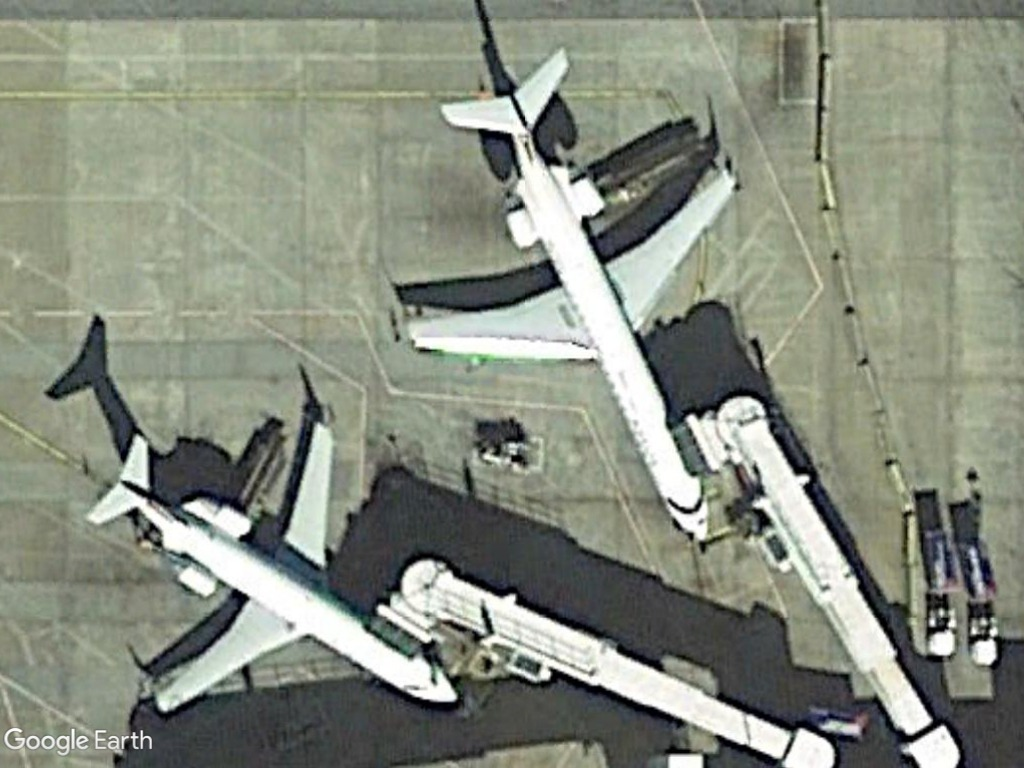chartered: (398, 49, 741, 553), (83, 401, 469, 724)
